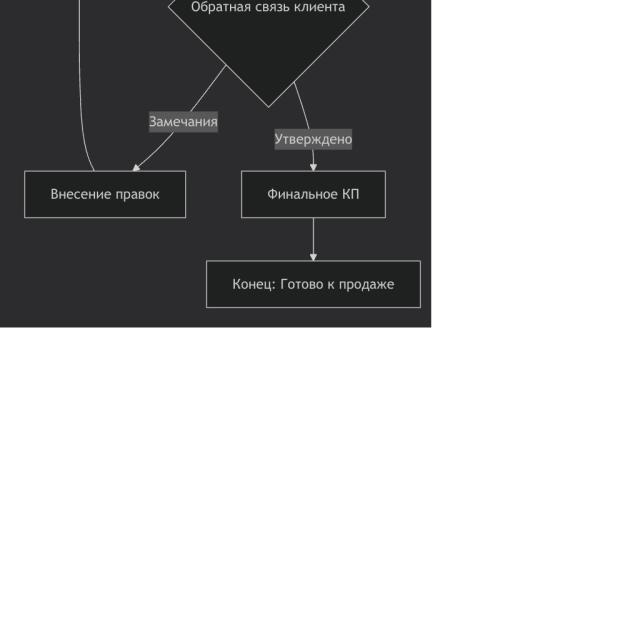arrow: (133, 64, 227, 171), (294, 81, 317, 170), (309, 218, 317, 261)
rectangle: (207, 260, 421, 308), (25, 171, 186, 218), (242, 172, 384, 217)
text_region: (149, 110, 220, 134), (275, 129, 352, 149)
